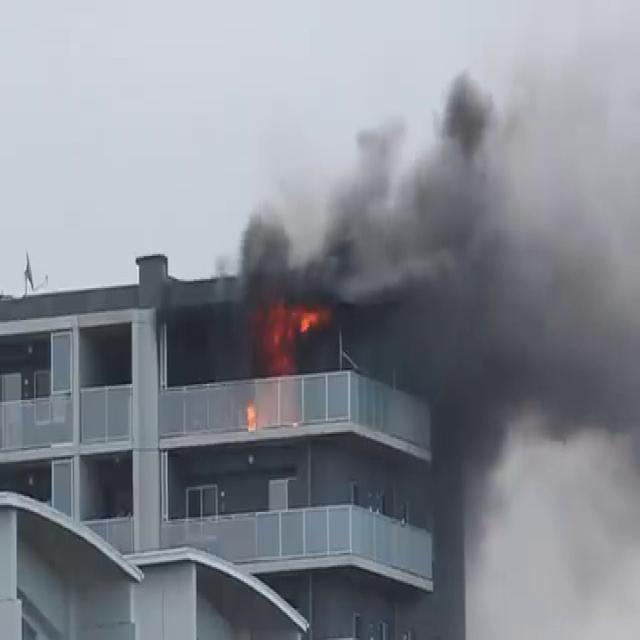Smoke: (242, 11, 640, 592)
